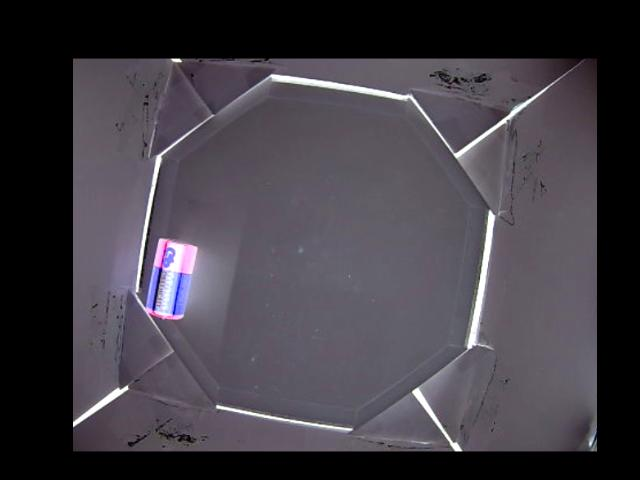Battery: (143, 237, 198, 319)
